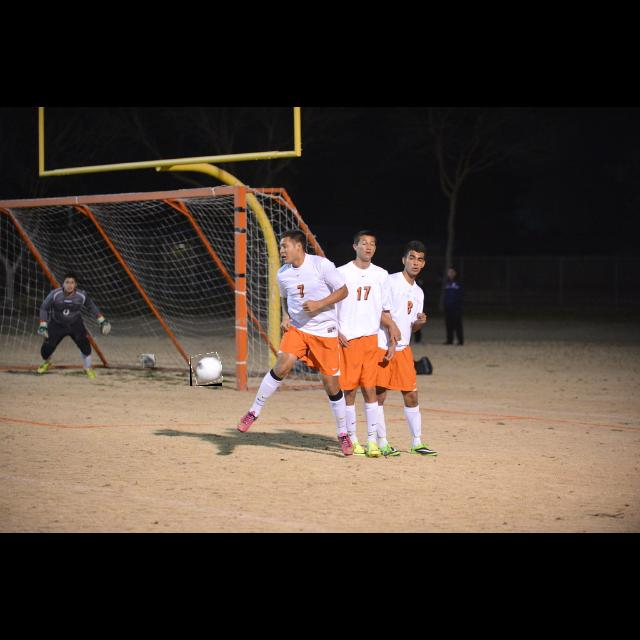Football: (190, 354, 222, 386), (142, 354, 154, 368)
